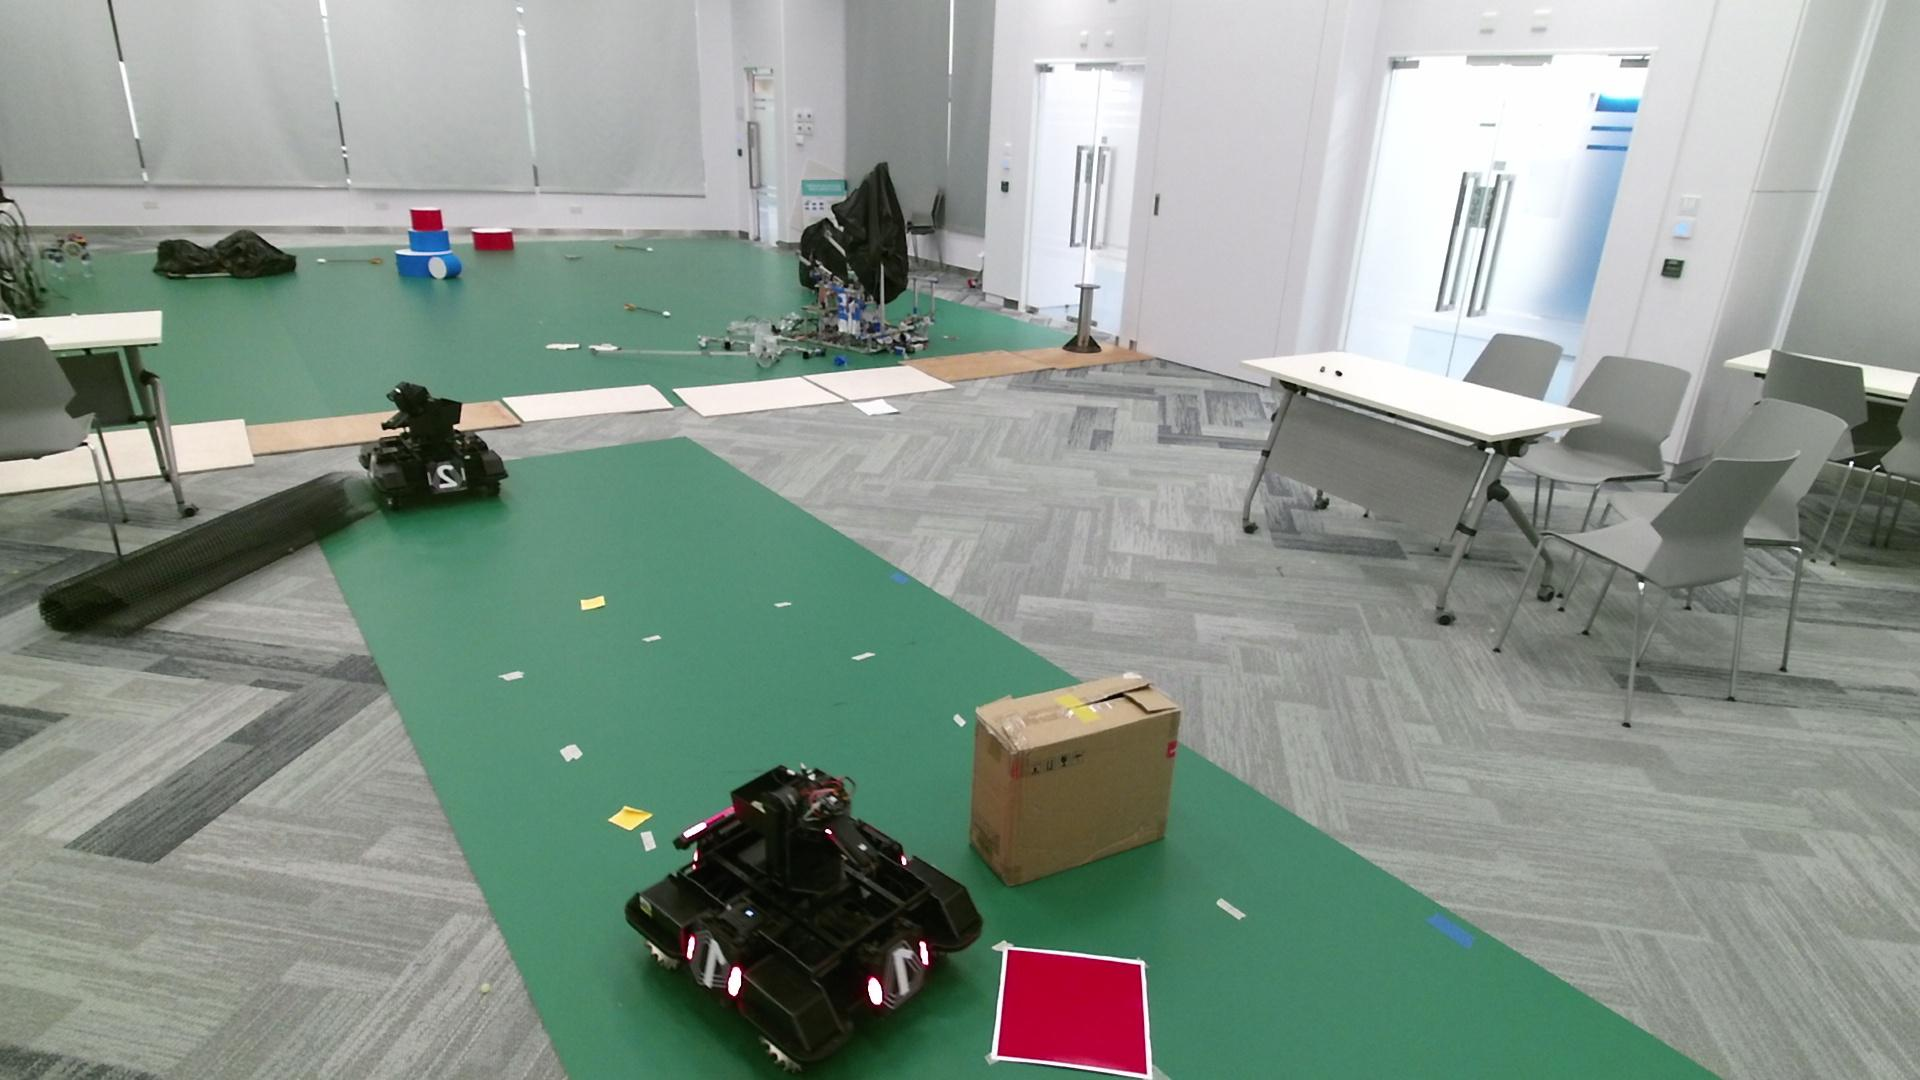robot: (622, 760, 985, 1080), (357, 380, 508, 510)
